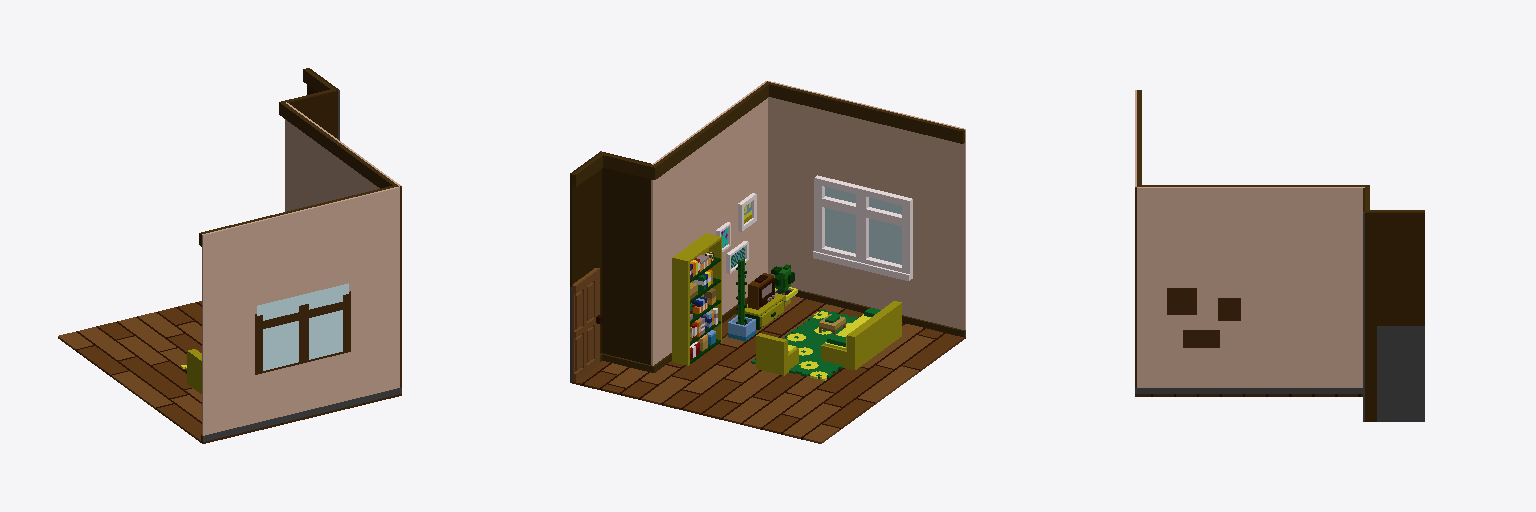
3 renders of one model, left to right at view 1: azimuth 30°, elevation 25°; view 2: azimuth 150°, elevation 25°; view 3: azimuth 270°, elevation 25°, orthographic.
Size of the model in its own units: 126 by 100 by 126.
1 materials, 1 textured.